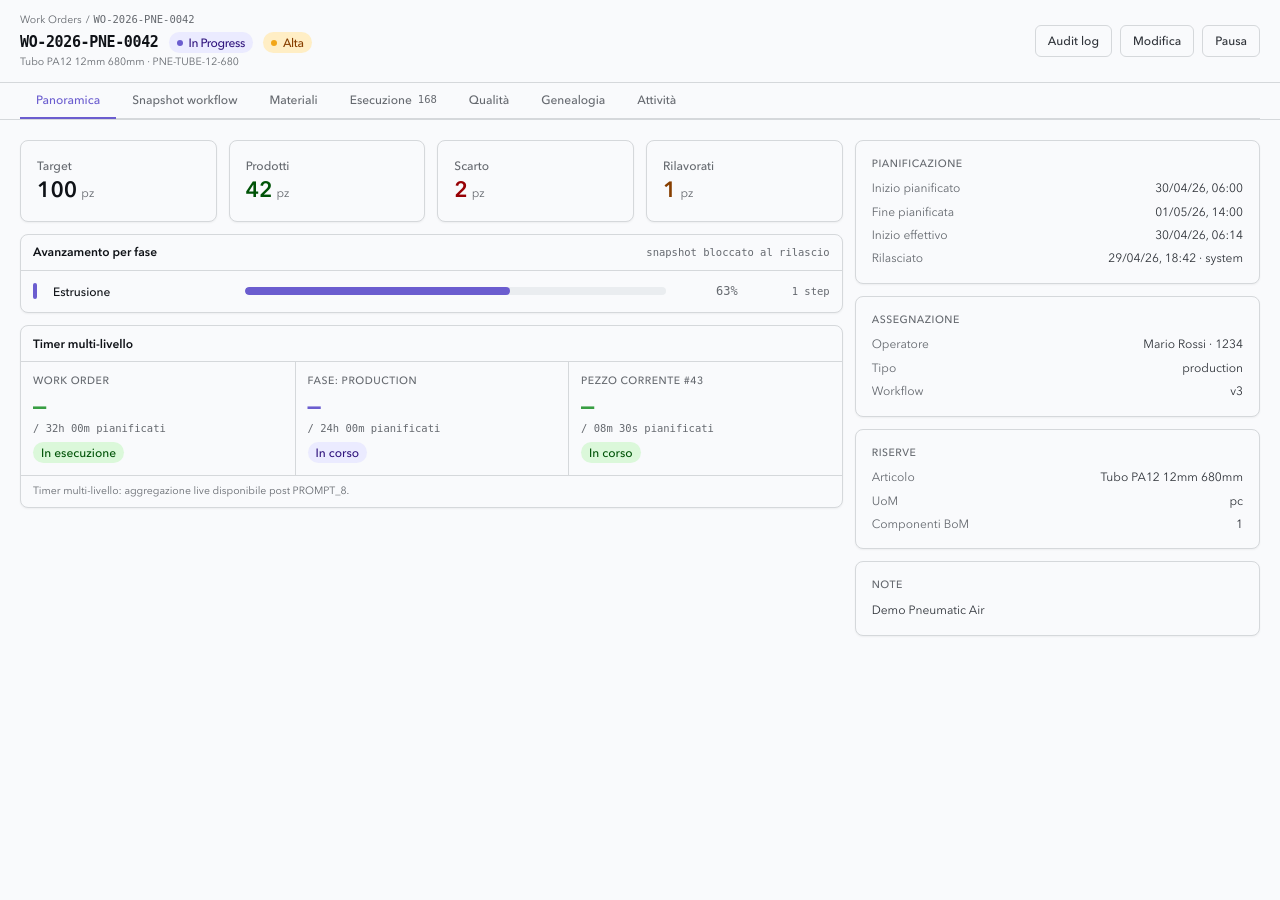
Test: WorkOrderDetailPage › Snapshot workflow tab renders phase + group + step from parsed snapshotData
Expected: the text "WO-2026-PNE-0042" next to "Work Orders" is shown, 94,13 -> 195,25
Click the tab "Snapshot workflow": x=185, y=101 116,83 -> 254,118
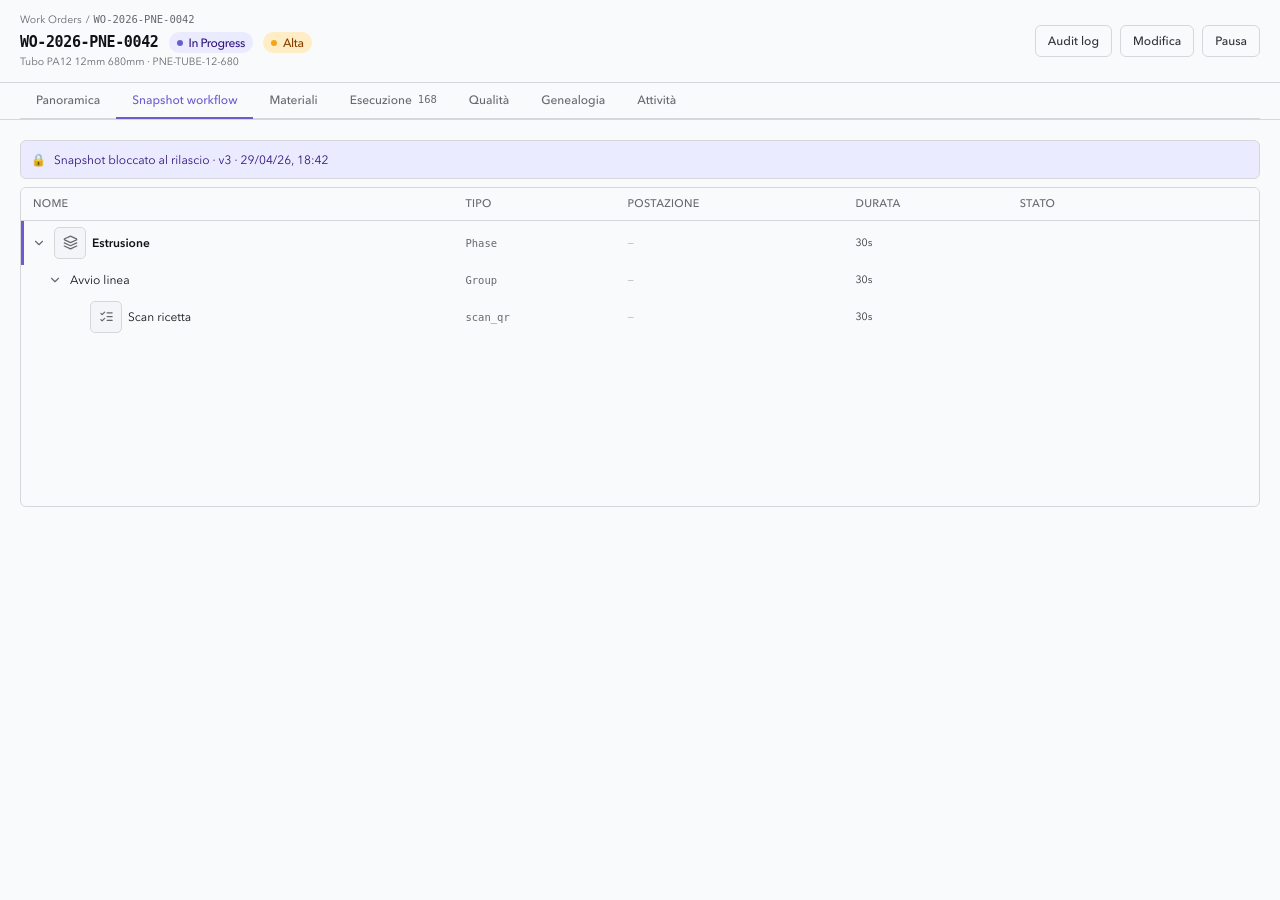
Now the text "🔒 Snapshot bloccato al rilascio · v3 · 29/04/26, 18:42" is shown, box 20,140 -> 1260,179
Now the text "Estrusione" is shown, box 92,234 -> 150,252
Now the text "Avvio linea" is shown, box 70,271 -> 130,288
